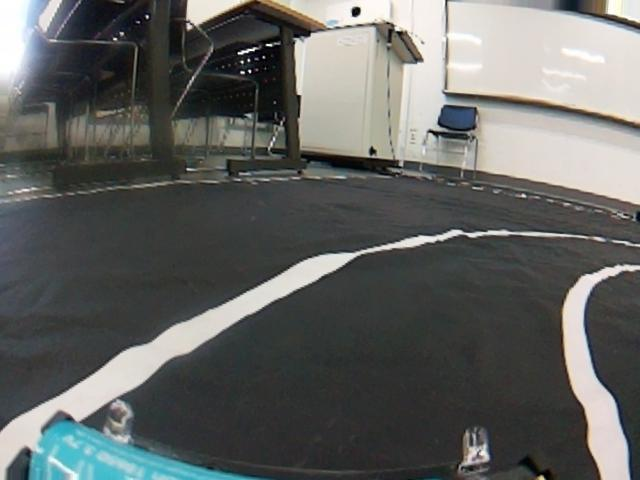straight: (9, 228, 640, 476)
